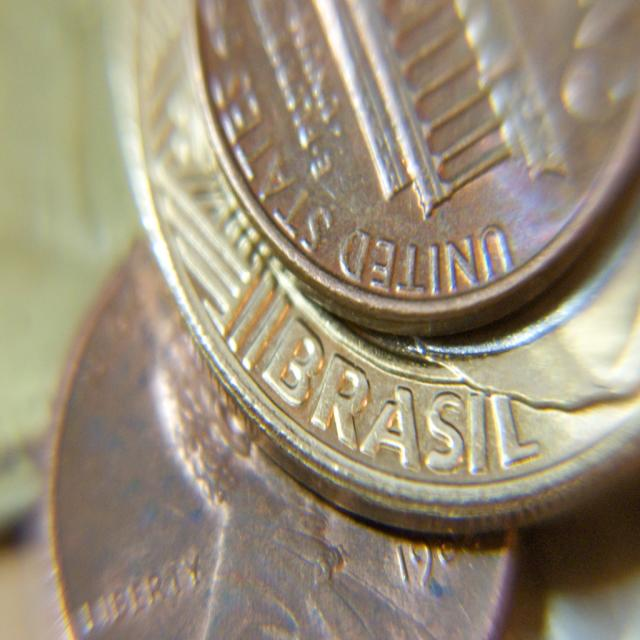Coin: (113, 0, 640, 533), (42, 231, 533, 639)
